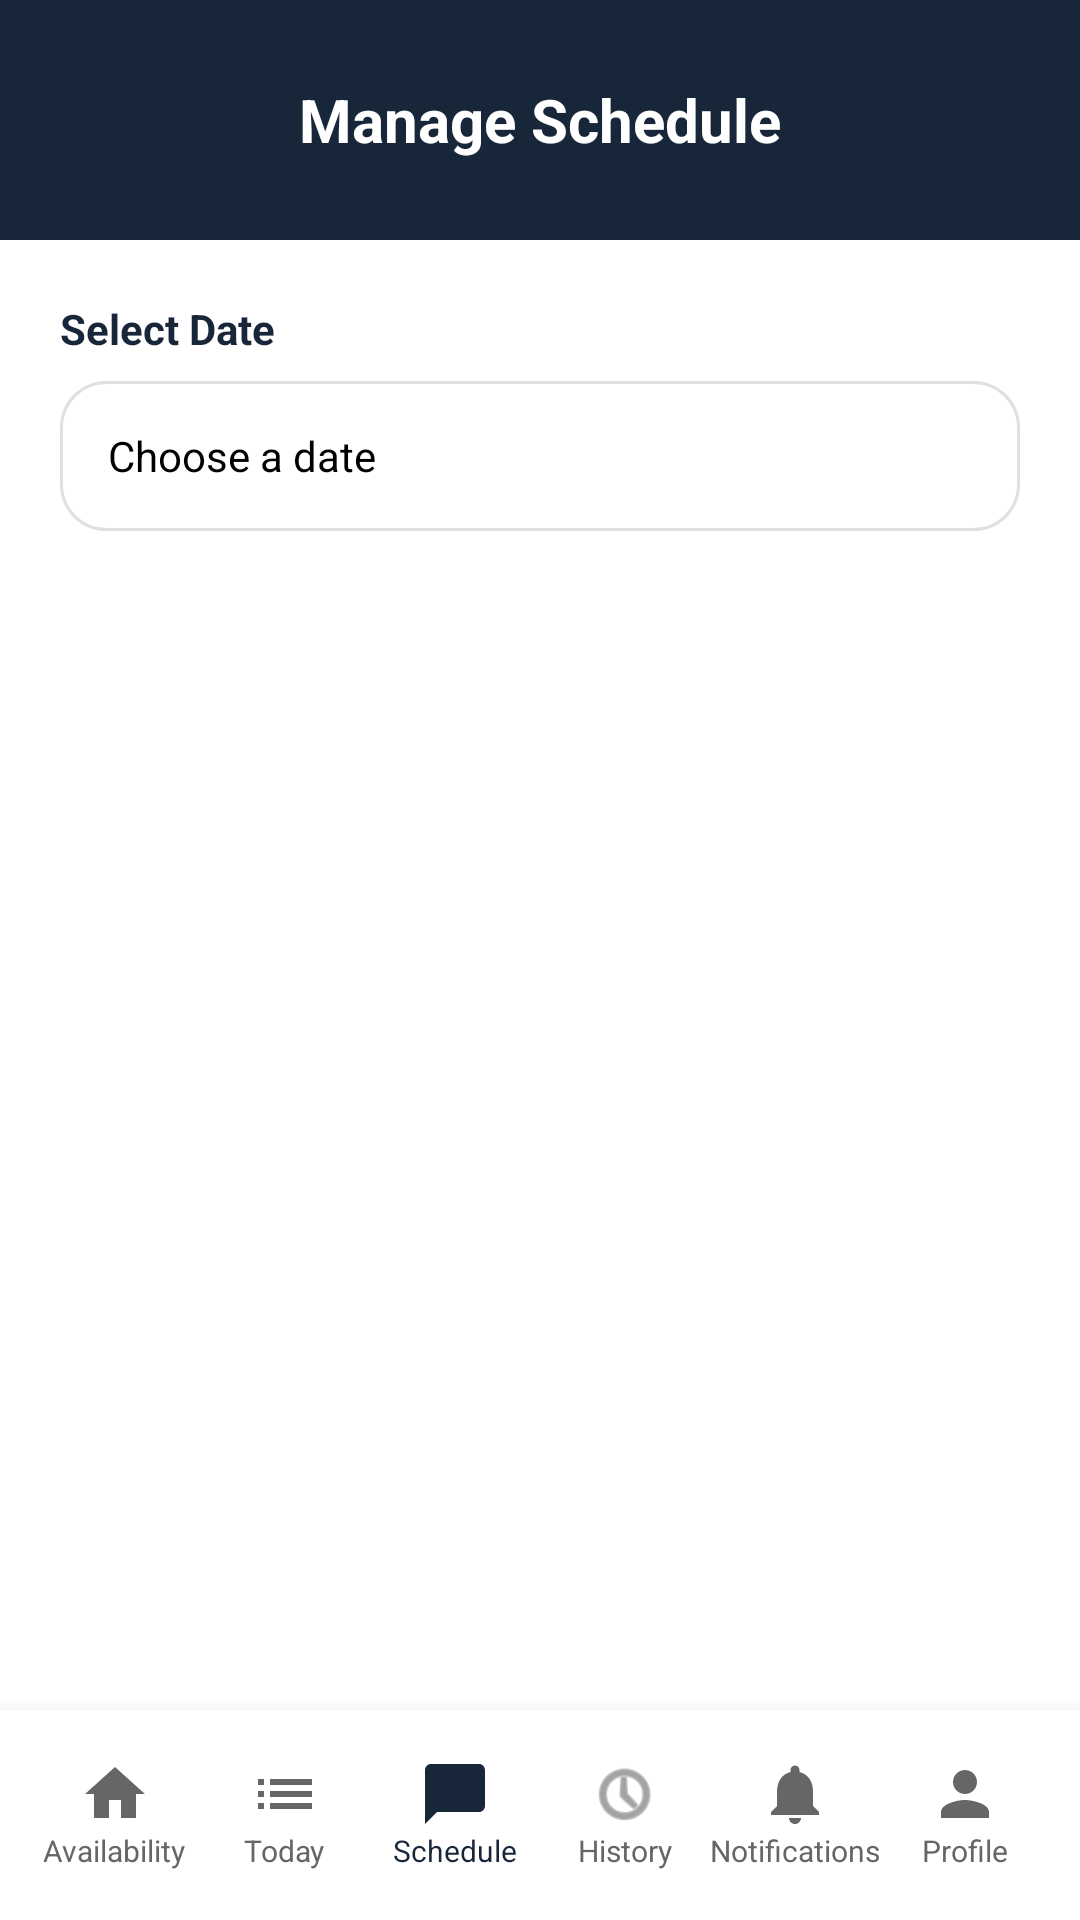

Icons on this 1080*1920 Android screen, each with the point to tap as (x=x, y=y):
home: (x=115, y=1792)
messages: (x=455, y=1794)
